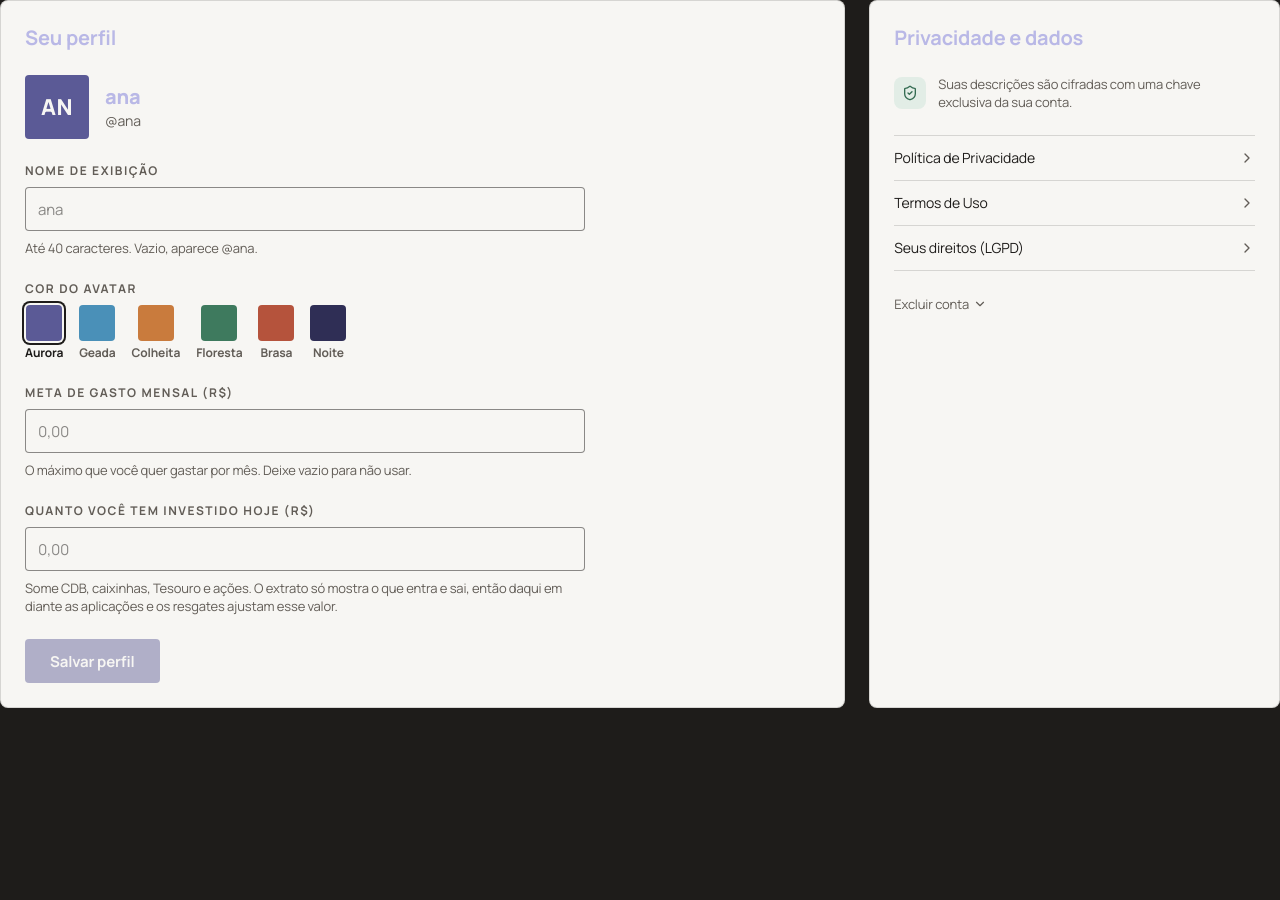
Test: ProfilePage › shows the server error and keeps what the user typed
Type "Ana" into the field labelled "Nome de exibição" at (305, 209), box x1=25 y1=187 x2=585 y2=231
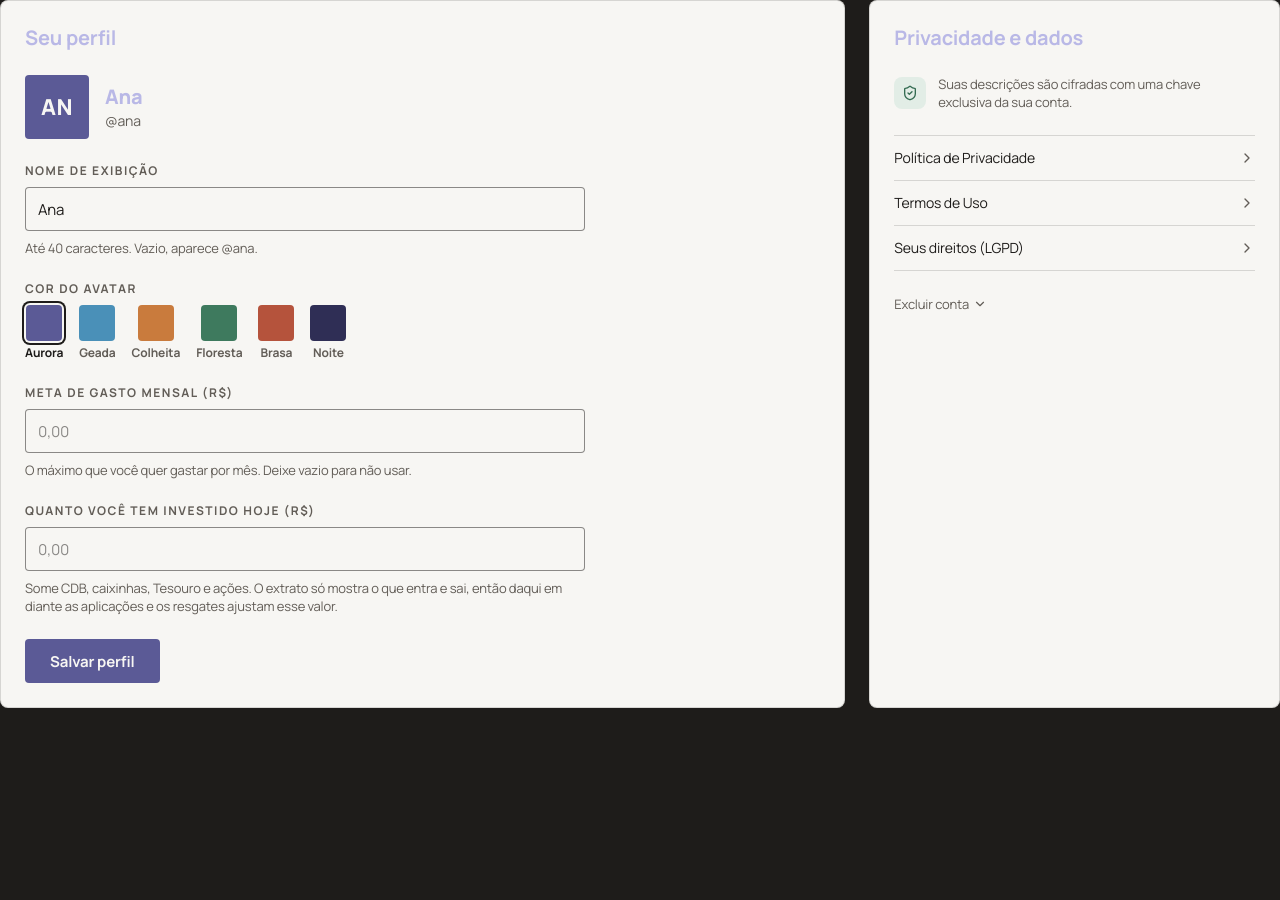
Click the button "Salvar perfil" at (92, 661), box x1=25 y1=639 x2=160 y2=683
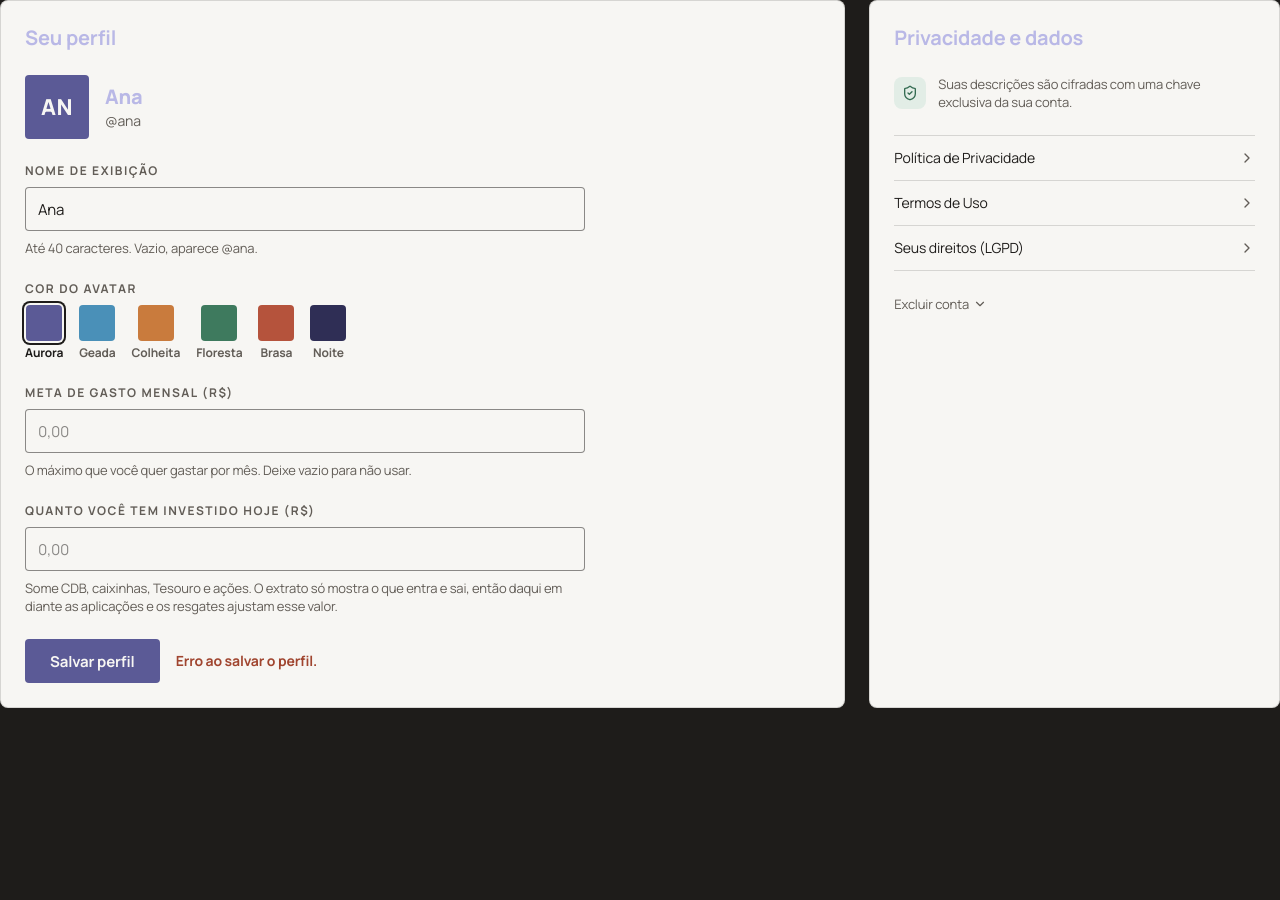
Expected: the button "Salvar perfil" is enabled, x1=25 y1=639 x2=160 y2=683
Expected: the message reads "Erro ao salvar o perfil.", x1=176 y1=651 x2=317 y2=670
